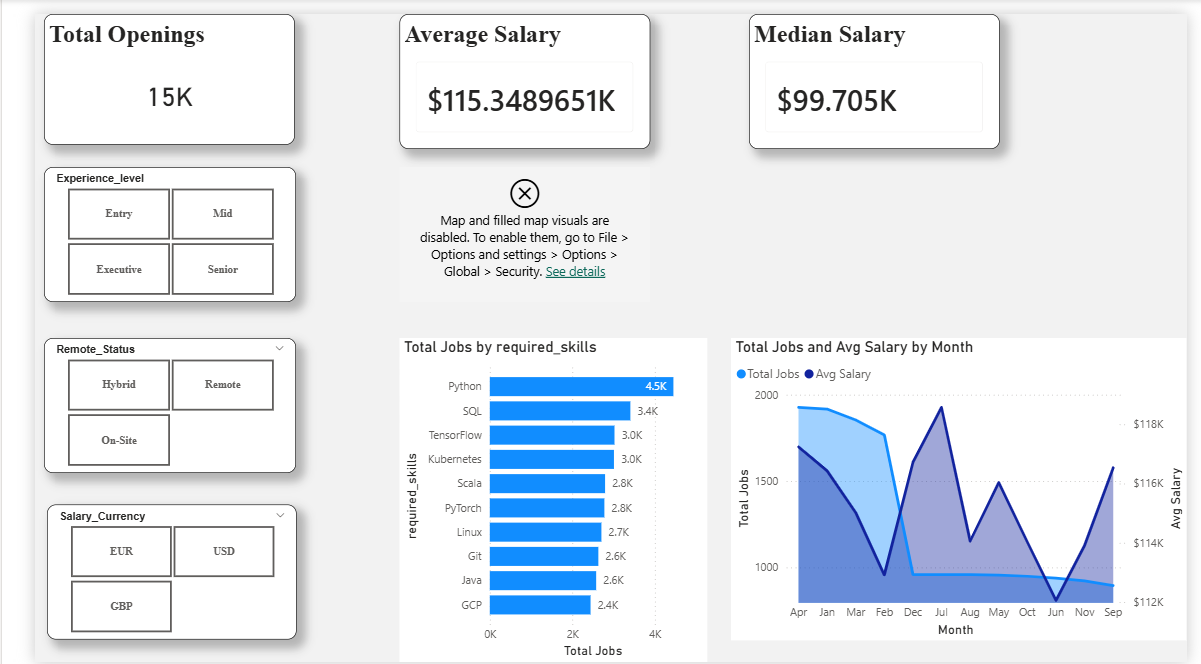

The dashboard page shown, as its layout file describes it:
{"tool":"powerbi","page":{"name":"Page 1","canvas":[1280,720],"ordinal":0},"visuals":[{"type":"card","title":"Total Openings","fields":{"Values":["Fact_Jobs.Total Jobs"]},"box":[10,0,278.9,145.6],"z":0},{"type":"cardVisual","title":"Average Salary","fields":{"Data":["Fact_Jobs.Avg Salary"]},"box":[405,0,278.3,150],"z":1000},{"type":"cardVisual","title":"Median Salary","fields":{"Data":["Fact_Jobs.Median Salary"]},"box":[793.3,0,278.3,150],"z":2000},{"type":"slicer","fields":{"Values":["Fact_Jobs.experience_level"]},"box":[10,170,280,150],"z":3000},{"type":"slicer","fields":{"Values":["Fact_Jobs.Remote_Status"]},"box":[10,360,280,150],"z":4000},{"type":"slicer","fields":{"Values":["Fact_Jobs.salary_currency"]},"box":[12.5,545,277.5,150],"z":5000},{"type":"map","fields":{"Category":["Fact_Jobs.company_location"],"Size":["Fact_Jobs.Total Jobs"]},"box":[405,170,278,150],"z":6000},{"type":"clusteredBarChart","fields":{"Y":["Fact_Jobs.Total Jobs"],"Category":["Fact_Skills.required_skills"]},"box":[405,360,341.7,360],"z":7000},{"type":"areaChart","fields":{"Y":["Fact_Jobs.Total Jobs"],"Category":["Dim_Date.Month"],"Y2":["Fact_Jobs.Avg Salary"]},"box":[774,360,506,336],"z":8000}]}

Visuals, with their boxes in screenshot pixels (x1, y1, x2, y2), scaled from the page's 1280x720 canvas onto the 1201x664 screenshot:
"Total Openings" card: x1=9 y1=0 x2=271 y2=134
"Average Salary" cardVisual: x1=380 y1=0 x2=641 y2=138
"Median Salary" cardVisual: x1=744 y1=0 x2=1005 y2=138
slicer - Fact_Jobs.experience_level: x1=9 y1=157 x2=272 y2=295
slicer - Fact_Jobs.Remote_Status: x1=9 y1=332 x2=272 y2=470
slicer - Fact_Jobs.salary_currency: x1=12 y1=503 x2=272 y2=641
map - Fact_Jobs.company_location x Fact_Jobs.Total Jobs: x1=380 y1=157 x2=641 y2=295
clusteredBarChart - Fact_Jobs.Total Jobs x Fact_Skills.required_skills: x1=380 y1=332 x2=701 y2=663
areaChart - Fact_Jobs.Total Jobs x Dim_Date.Month: x1=726 y1=332 x2=1200 y2=642
